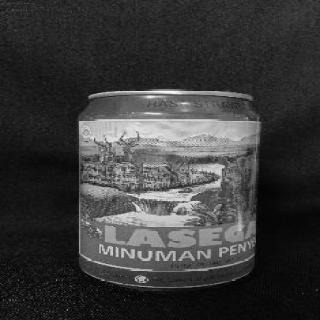alumunium_can: (78, 90, 262, 292)
